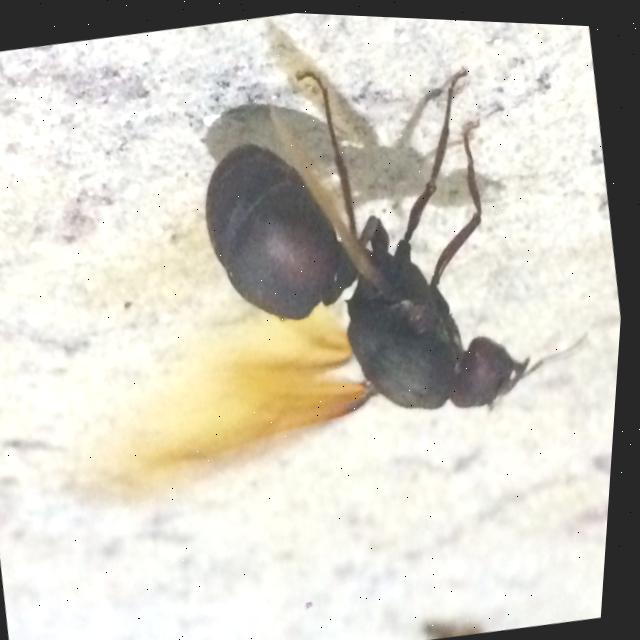Alive-Female-Alate: (5, 11, 627, 530)
